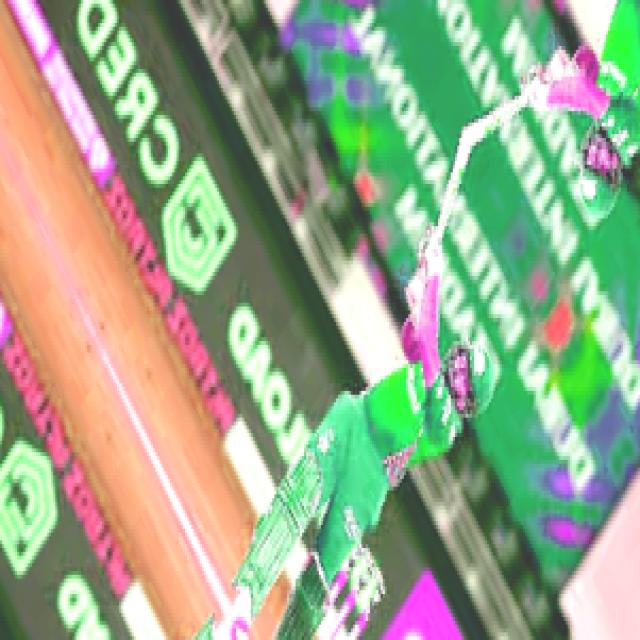toe: (455, 142, 473, 166)
